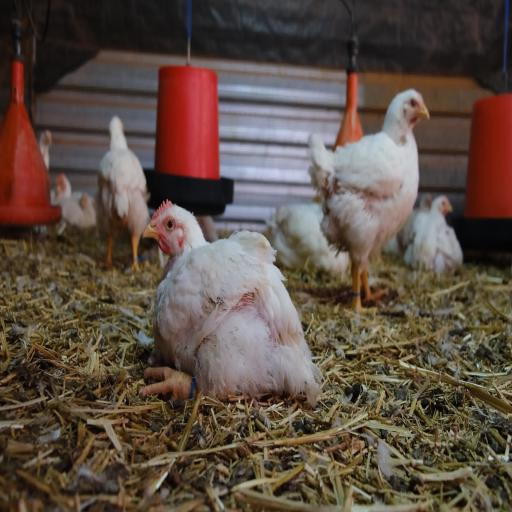healthy: (143, 197, 195, 258), (399, 86, 431, 126)
